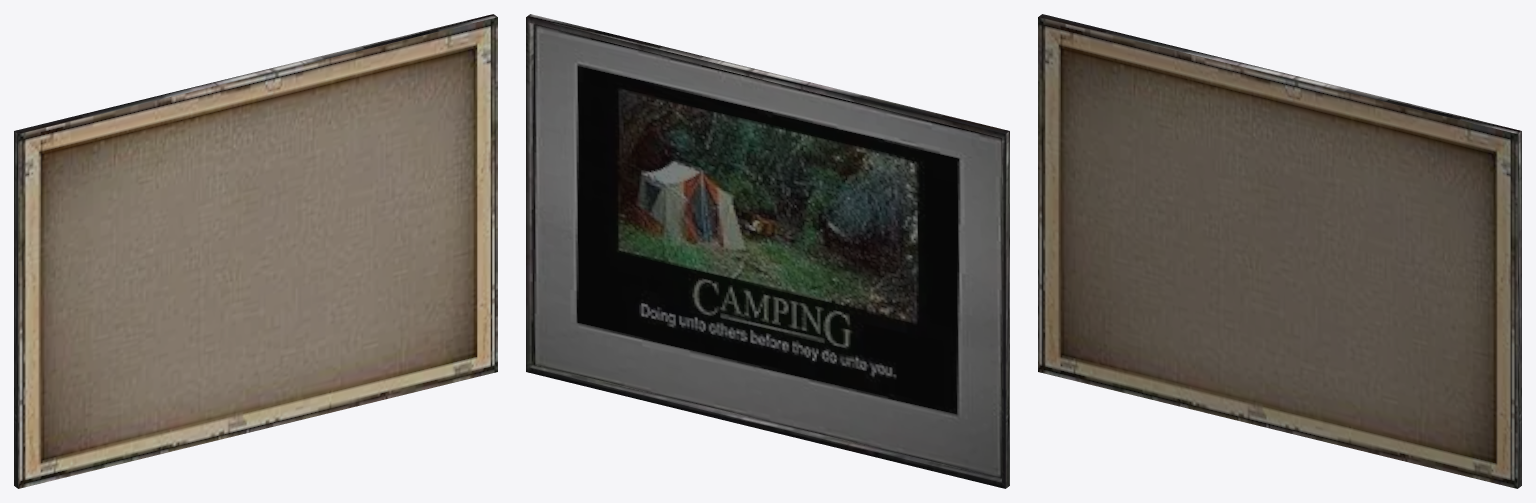
Rendered from offinspf.glb.
3 views of the same model, side by side, from view 1: azimuth 30°, elevation 25°; view 2: azimuth 150°, elevation 25°; view 3: azimuth 330°, elevation 25° (orthographic).
Parts seen in each view (by area): view 1: 0_Poster_backing, 1_offinspf; view 2: 1_offinspf; view 3: 0_Poster_backing, 1_offinspf.
Boxes of the visible parts, box(x1,y1,x2,y2) form: 0_Poster_backing: box(18, 17, 497, 488); 1_offinspf: box(14, 14, 497, 488); 1_offinspf: box(526, 14, 1009, 488); 0_Poster_backing: box(1038, 17, 1517, 488); 1_offinspf: box(1038, 14, 1521, 488).
Size of the model in its own units: 1.16 by 0.8171 by 0.0178.
2 materials, 2 textured.
